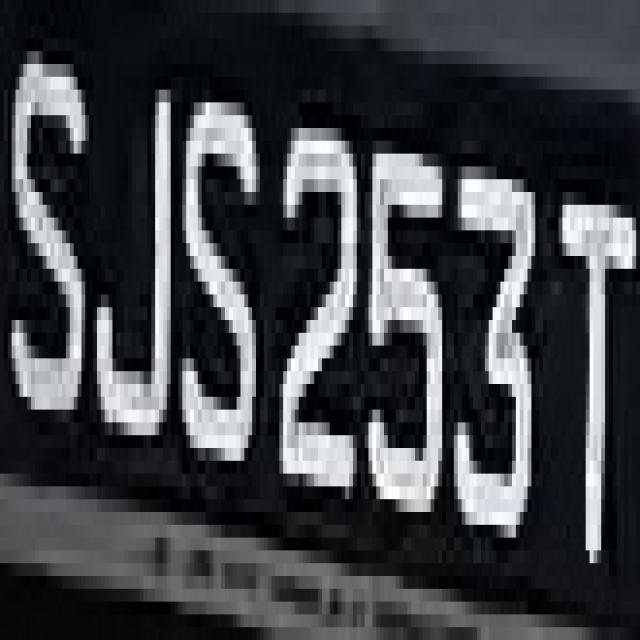2: (264, 52, 376, 550)
3: (454, 128, 543, 563)
5: (361, 102, 450, 538)
J: (81, 26, 182, 473)
S: (0, 51, 85, 448), (186, 51, 264, 474)
T: (543, 141, 628, 576)
